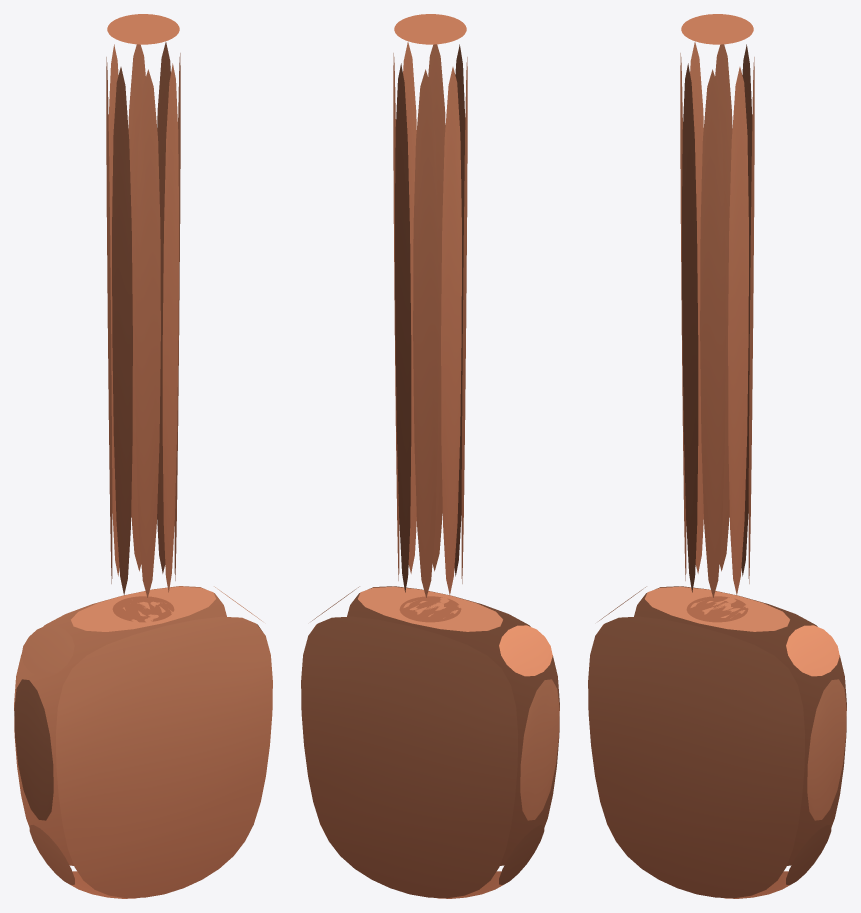
File: tool-paddle.glb
3 views of the same model, side by side, from view 1: azimuth 30°, elevation 25°; view 2: azimuth 150°, elevation 25°; view 3: azimuth 330°, elevation 25° (orthographic).
Visible parts, largest first — view 1: tool-paddle; view 2: tool-paddle; view 3: tool-paddle.
Boxes of the visible parts, <box> form: tool-paddle: <box>14,14,272,898</box>; tool-paddle: <box>301,14,559,898</box>; tool-paddle: <box>588,14,846,898</box>.
Size of the model in its own units: 0.6553 by 2.35 by 0.2075.
1 material, 1 textured.
